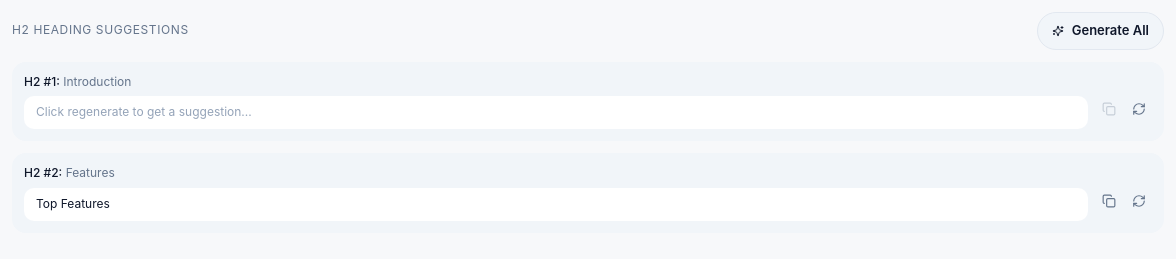
Test: H2SelectionList inline failure messages › surfaces the AI service's own message on a per-item failure
The image size is (1176, 259).
What coordinates should you click on to do the following:
click the 2nd button titled "Regenerate"
I would click on:
 (1139, 201)
Its box is top-left (1126, 188), bottom-right (1152, 214).
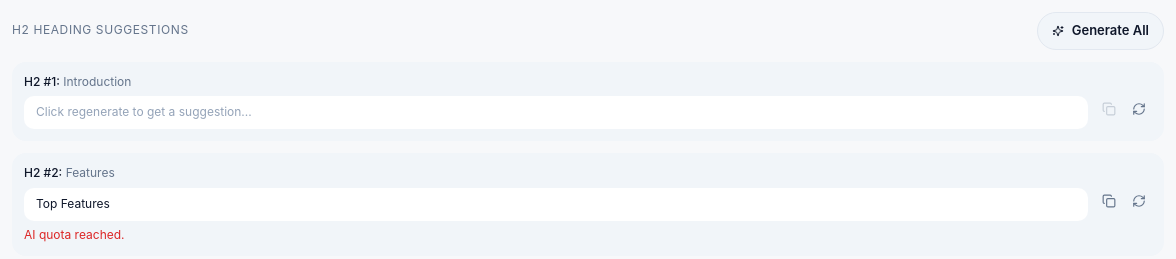
Result: the message reads "AI quota reached." at top-left (24, 227), bottom-right (124, 242)
